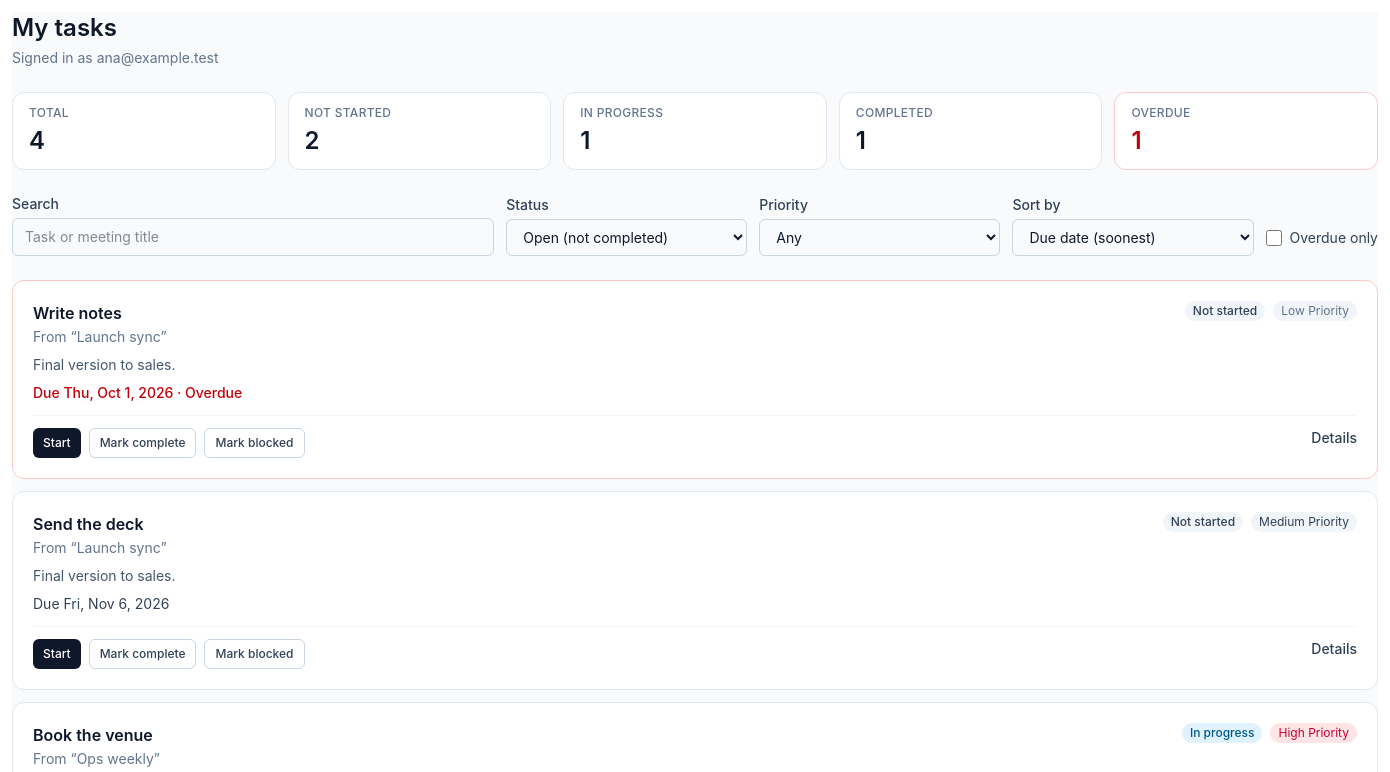
Test: employee dashboard › shows a conflict when the task changed elsewhere
Click the button "Mark complete" below "Fri, Nov 6, 2026".
click(142, 654)  # box x1=89 y1=639 x2=196 y2=669
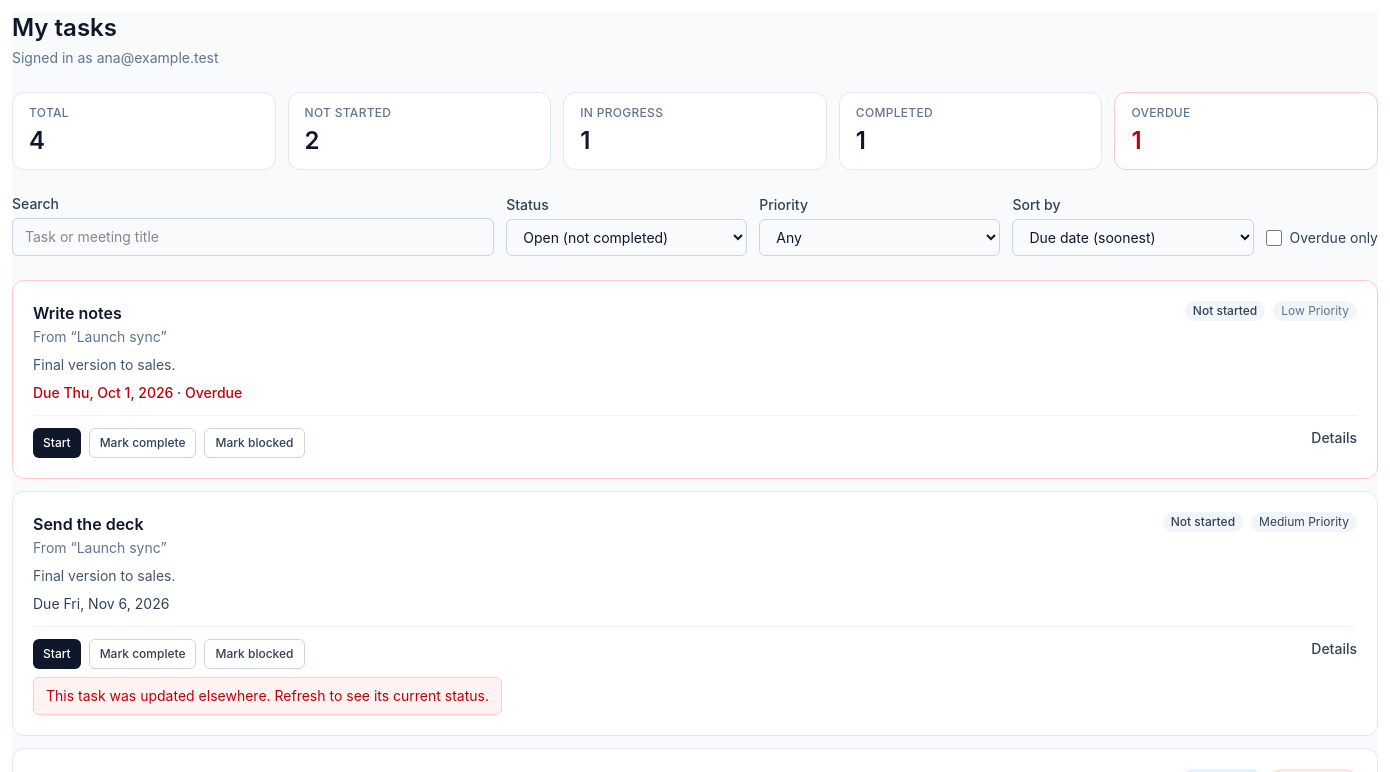
expect the text "This task was updated elsewhere. Refresh to see its current status." is shown: met, box x1=33 y1=677 x2=502 y2=715
